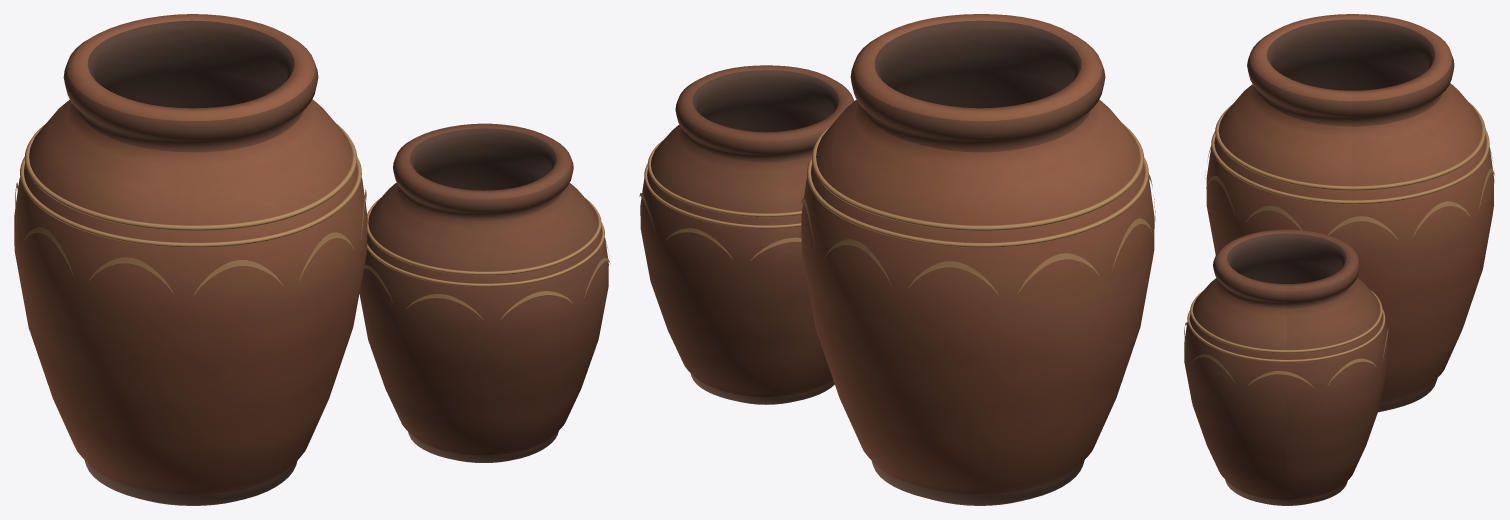
Rendered from SM_GukbapOnggiPair.fbx.
The picture shows the model from 3 angles, left to right: view 1: azimuth 30°, elevation 25°; view 2: azimuth 150°, elevation 25°; view 3: azimuth 270°, elevation 25°; orthographic projection. The views are drawn at different scales.
Parts seen in each view (by area): view 1: SM_GukbapOnggiPair; view 2: SM_GukbapOnggiPair; view 3: SM_GukbapOnggiPair.
Boxes of the visible parts, bbox=[...] form: SM_GukbapOnggiPair: bbox=[14, 14, 610, 505]; SM_GukbapOnggiPair: bbox=[639, 14, 1155, 505]; SM_GukbapOnggiPair: bbox=[1184, 14, 1494, 505].
Size of what is drawn, in the model's own units: 90.29 by 58.26 by 68.22.
Materials: 1 (1 with a texture image).
